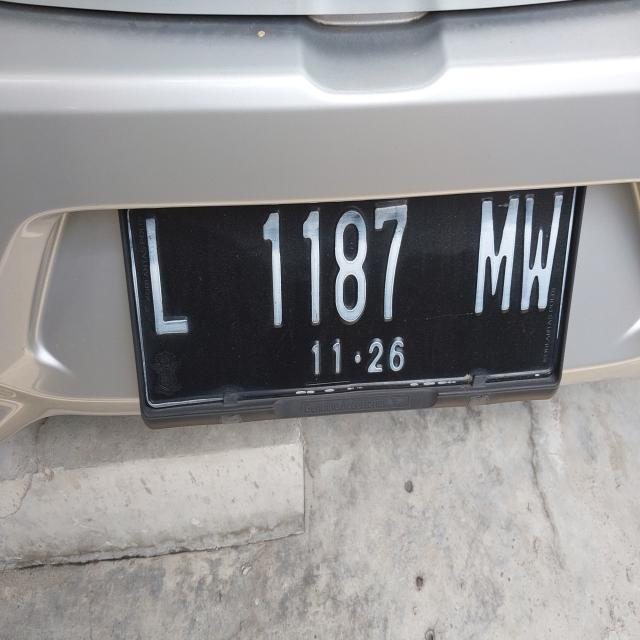1: (252, 195, 294, 347), (295, 196, 328, 339)
7: (368, 188, 416, 332)
8: (327, 188, 374, 335)
L: (131, 202, 202, 346)
M: (464, 179, 520, 331)
W: (518, 178, 569, 338)
